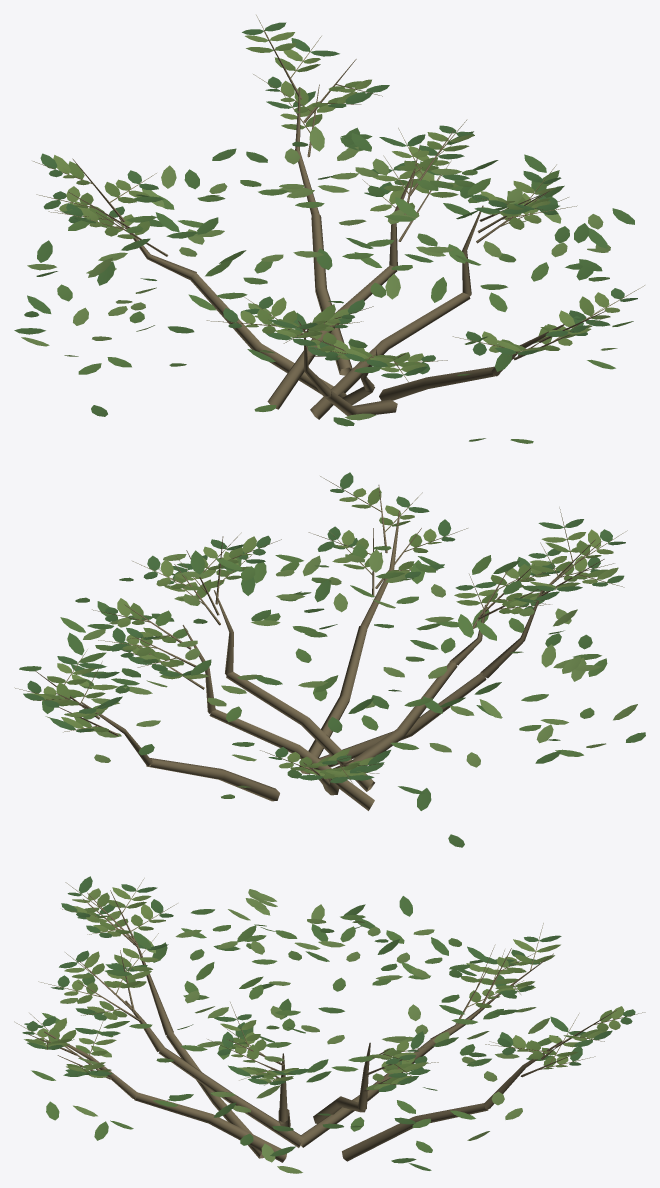
The model's file is LentisqueRampant_2_Low.fbx.
The picture shows the model from 3 angles, top to bottom: view 1: azimuth 30°, elevation 25°; view 2: azimuth 150°, elevation 25°; view 3: azimuth 270°, elevation 25°; orthographic projection. The views are drawn at different scales.
Parts seen in each view (by area): view 1: LentisqueRampant_2_Low; view 2: LentisqueRampant_2_Low; view 3: LentisqueRampant_2_Low.
Part boxes in pixels (<box>): LentisqueRampant_2_Low: <box>14,15,644,443</box>; LentisqueRampant_2_Low: <box>14,472,645,847</box>; LentisqueRampant_2_Low: <box>14,876,645,1173</box>.
Bounding box in the file's own units: 217 × 80.41 × 236.
